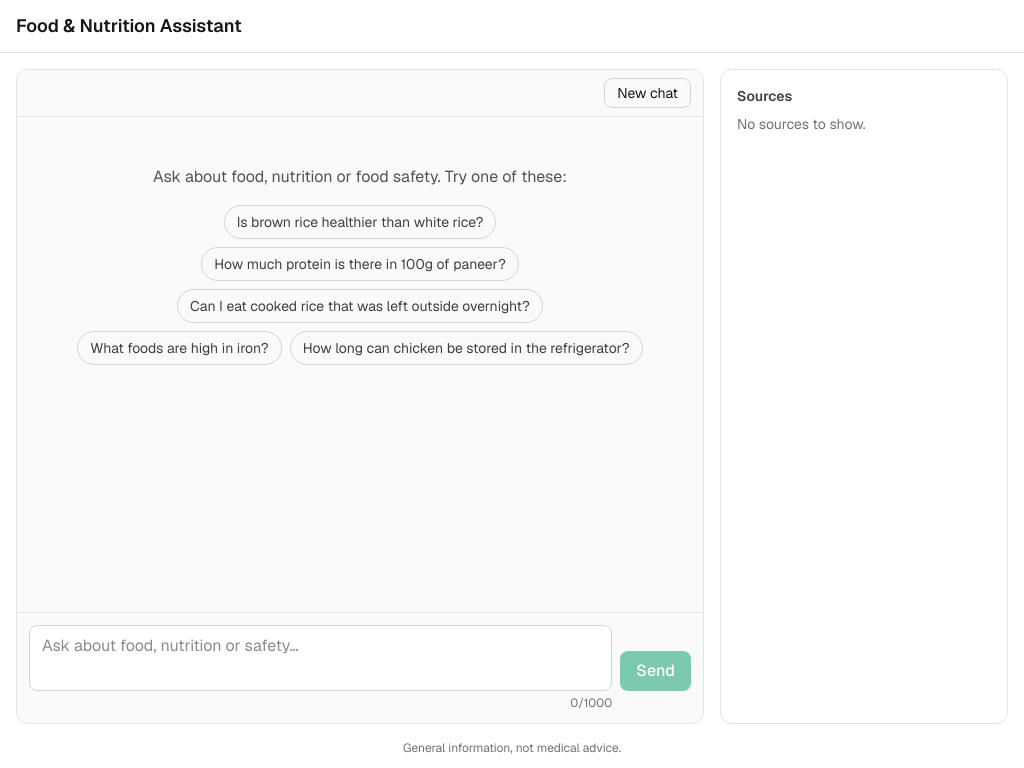
Scenario: sends with the stored conversation id and shows Thinking… while waiting
Type "Calories in rice?" into the text box named "Your question". click: (321, 658)
box: [29, 625, 612, 691]
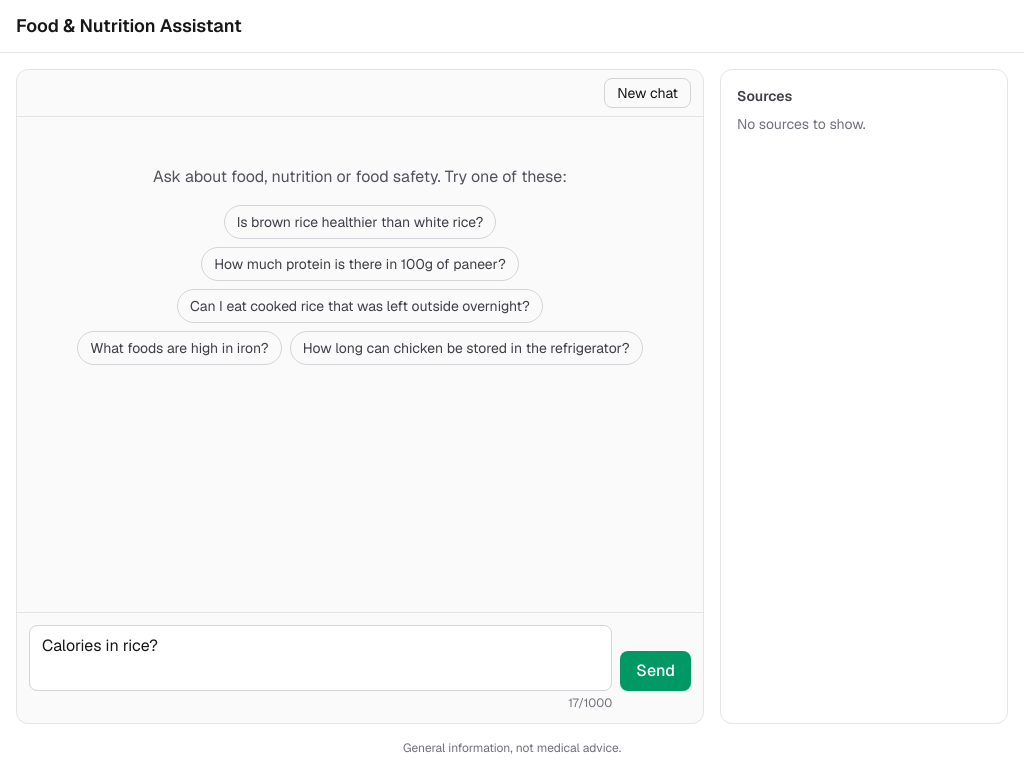
Press Enter in the text box named "Your question", box [29, 625, 612, 691]
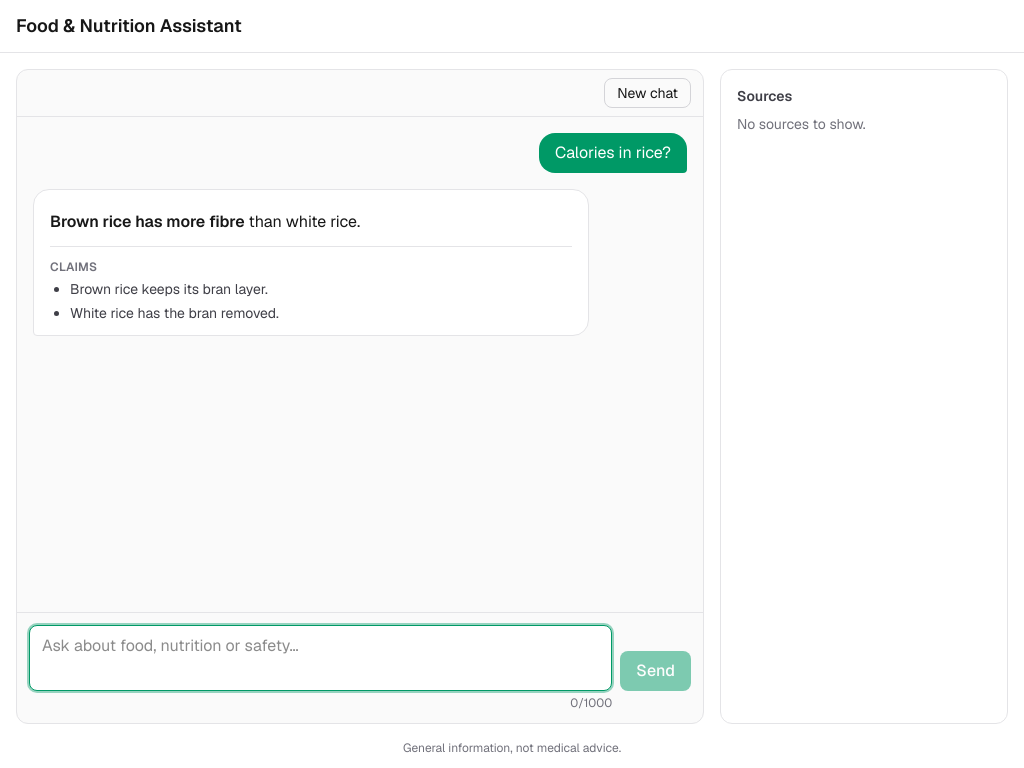
Now the button "Send" is disabled, box [620, 651, 691, 691]
